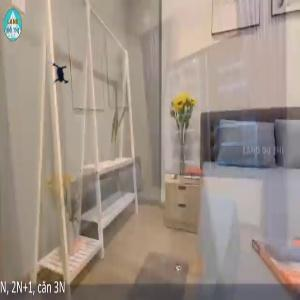drone: (42, 58, 78, 94)
